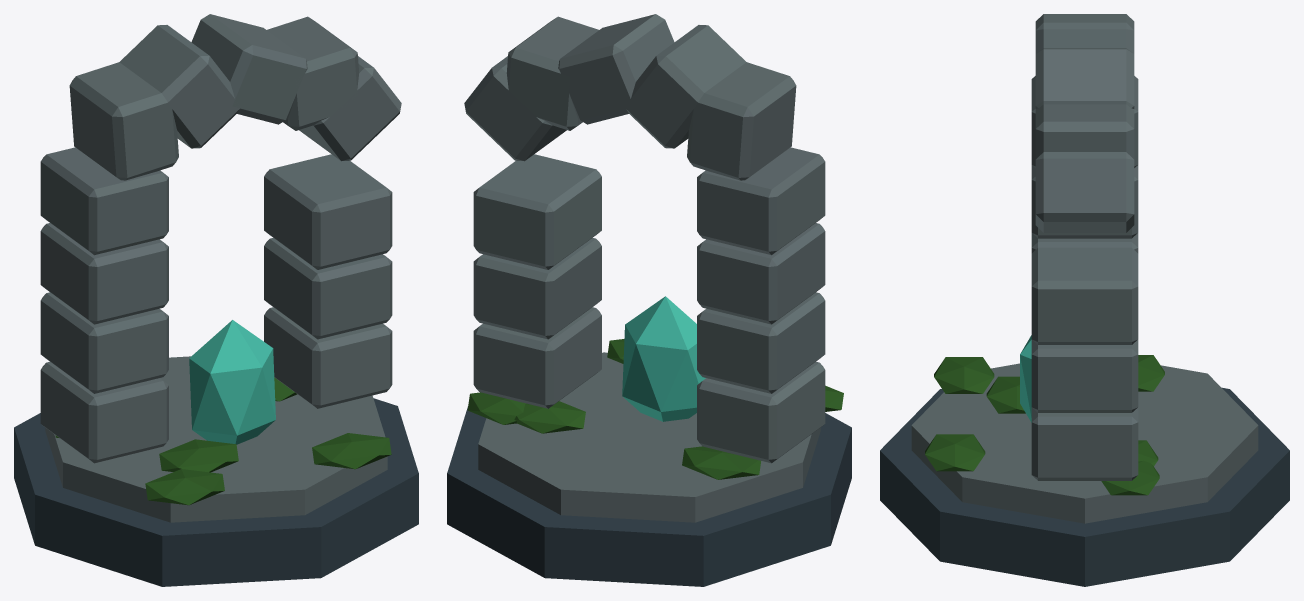
Rendered from Ruins.fbx.
3 renders of one model, left to right at view 1: azimuth 30°, elevation 25°; view 2: azimuth 150°, elevation 25°; view 3: azimuth 270°, elevation 25°, orthographic. The views are drawn at different scales.
Visible parts, largest first — view 1: Ruins_Mesh; view 2: Ruins_Mesh; view 3: Ruins_Mesh.
Boxes of the visible parts, bbox=[...] form: Ruins_Mesh: bbox=[14, 14, 418, 586]; Ruins_Mesh: bbox=[447, 14, 851, 586]; Ruins_Mesh: bbox=[880, 14, 1289, 586].
Size of the model in its own units: 1.04 by 1.29 by 1.04.
